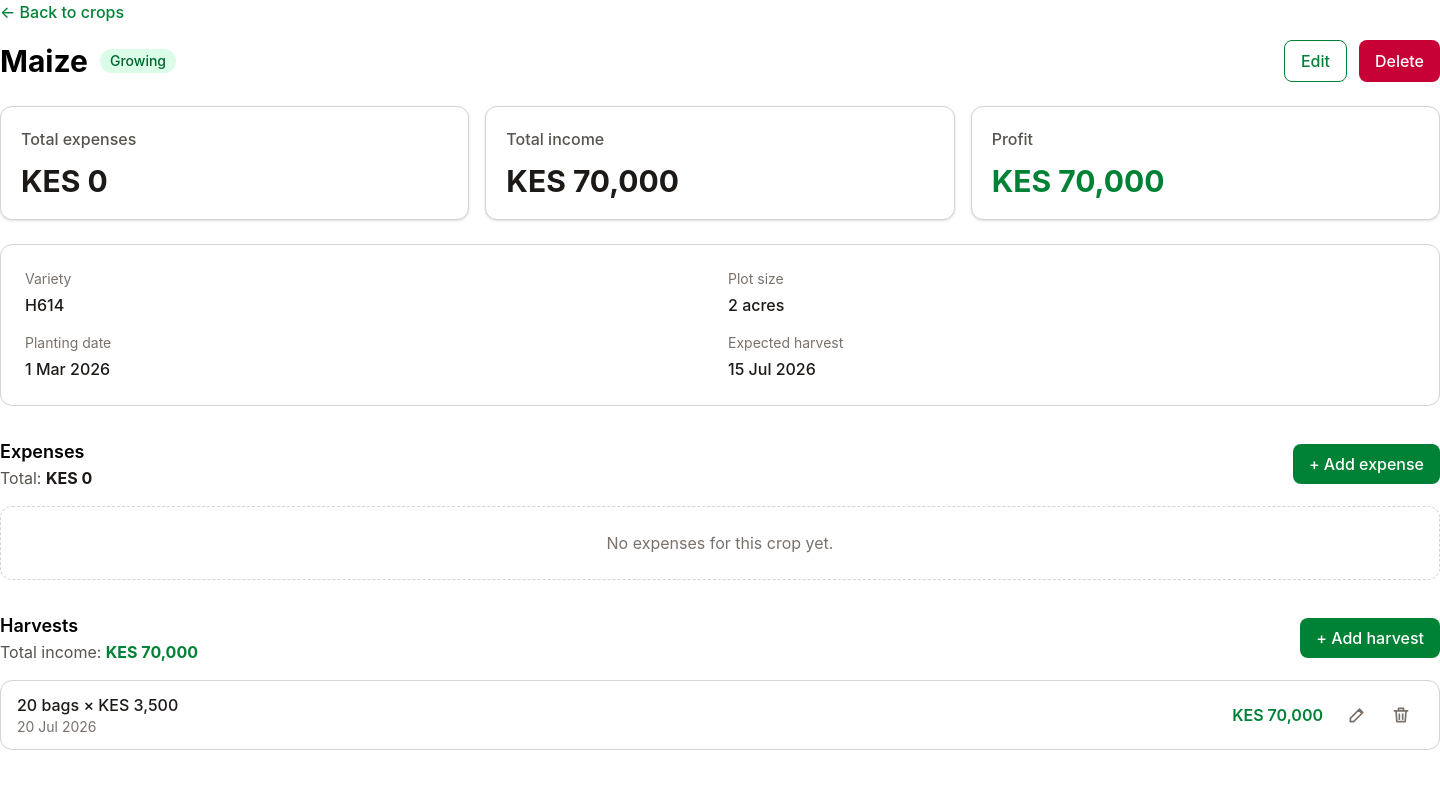
CropDetails page › lists only this crop's harvests and opens the form with the crop chosen
Expected: the text "20 bags × KES 3,500" is shown, [17,695,178,715]
Click the button "+ Add harvest".
click(1370, 638)  # box [1300,618,1439,658]
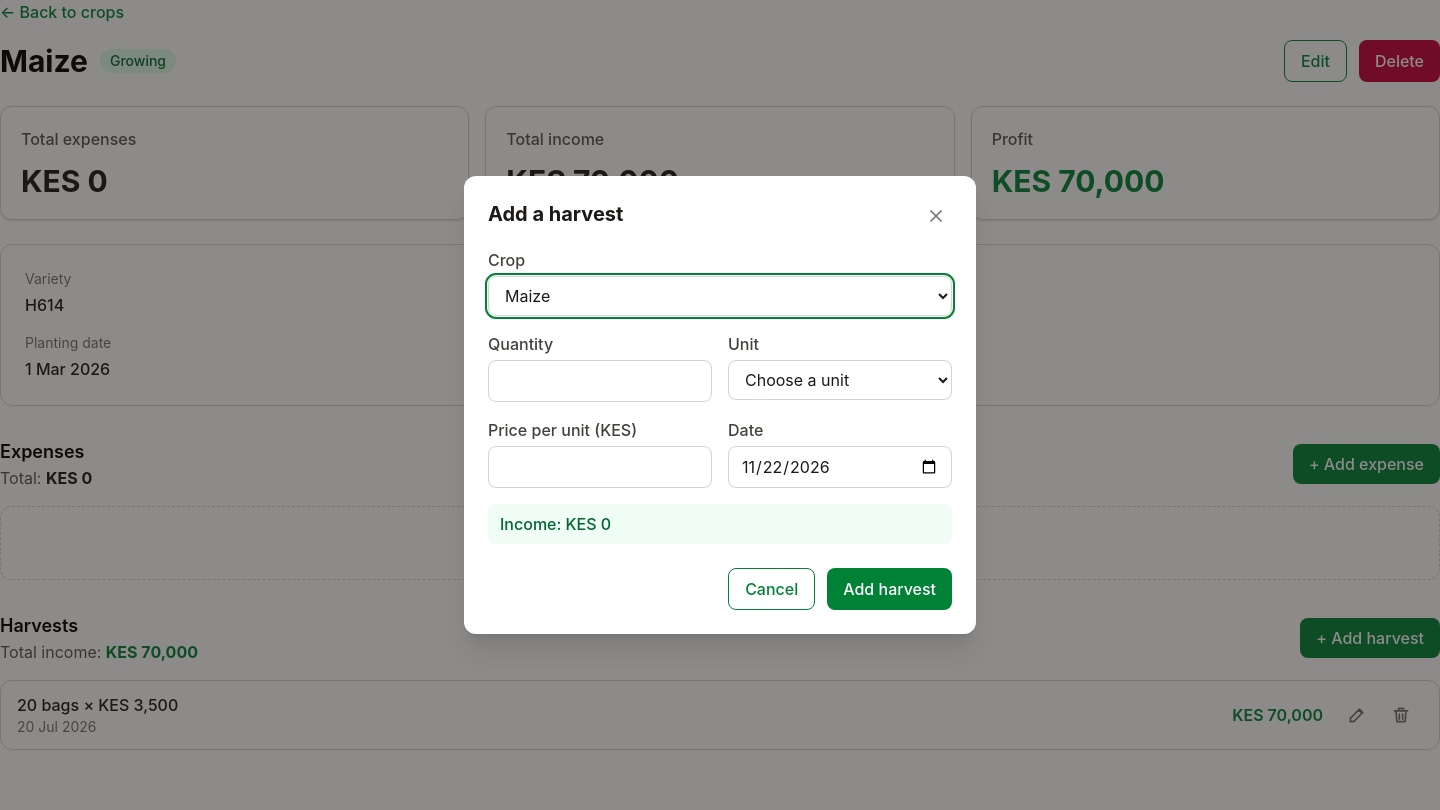
Result: the dialog "Add a harvest" is shown at [464,176,976,634]
Result: the dropdown labelled "Crop" shows "Maize" at [488,276,952,316]
